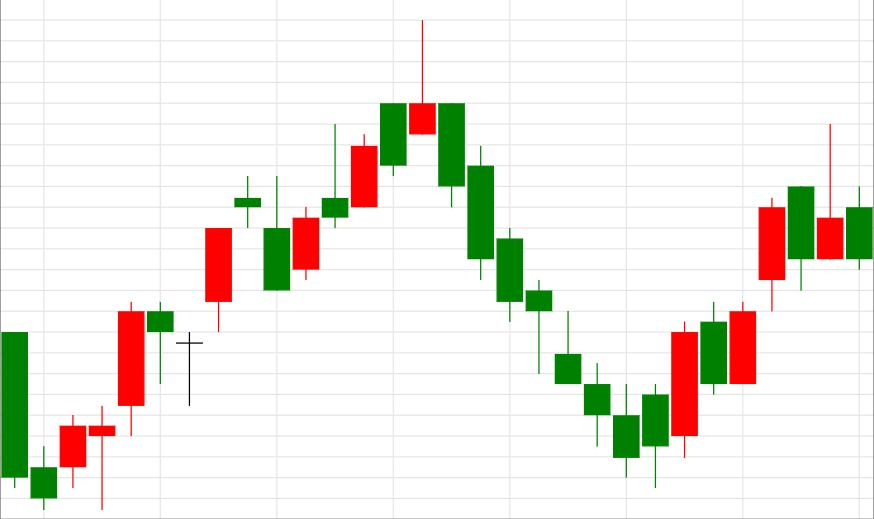evening_star_fall: (29, 177, 290, 511)
shooting_star_fall: (292, 20, 436, 279)
